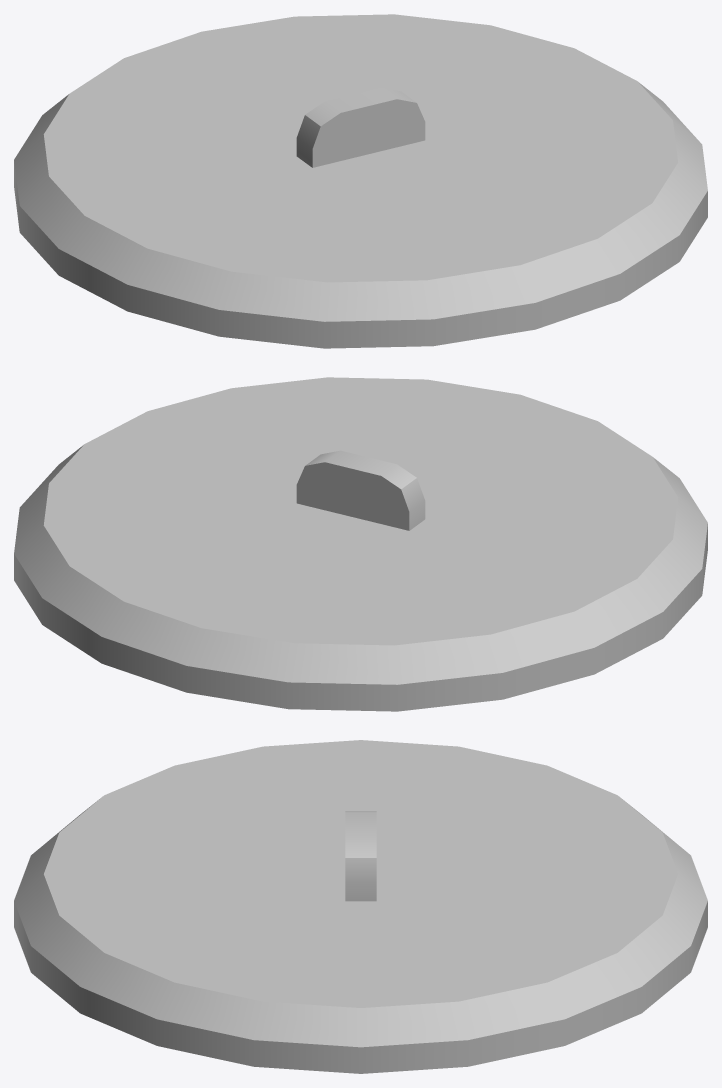
Rendered from BinCover (1).fbx.
3 renders of one model, top to bottom at view 1: azimuth 30°, elevation 25°; view 2: azimuth 150°, elevation 25°; view 3: azimuth 270°, elevation 25°, orthographic.
Visible parts, largest first — view 1: polySurface270; view 2: polySurface270; view 3: polySurface270.
Part boxes in pixels (x1,y1,x2,y2): polySurface270: (14,14,707,348); polySurface270: (14,377,707,711); polySurface270: (14,740,707,1073).
Bounding box in the file's own units: 88.31 × 14.2 × 88.31.
